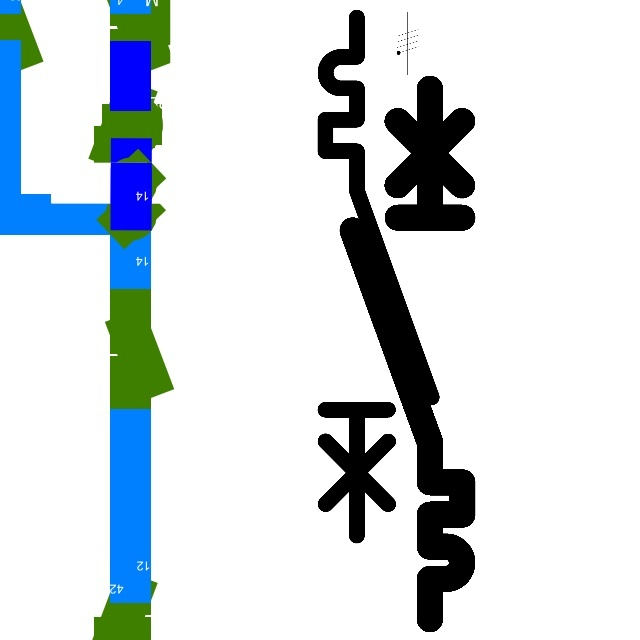interruptor_termomagnetico: (339, 75, 476, 633), (312, 4, 445, 549)
